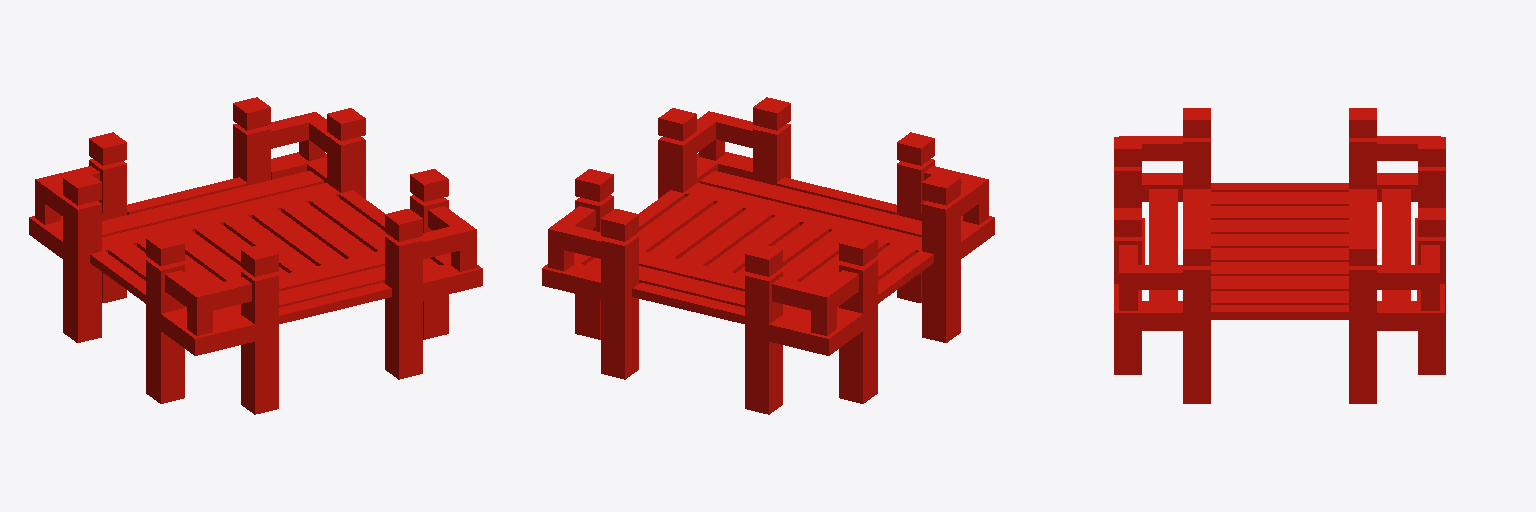
3 renders of one model, left to right at view 1: azimuth 30°, elevation 25°; view 2: azimuth 150°, elevation 25°; view 3: azimuth 270°, elevation 25°, orthographic.
Visible parts, largest first — view 1: cube; view 2: cube; view 3: cube.
Part boxes in pixels (x1,y1,x2,y2): cube: (29, 97, 482, 414); cube: (542, 97, 994, 414); cube: (1114, 108, 1445, 403).
Size of the model in its own units: 1.09 by 0.5625 by 1.09.
Materials: 1 (1 with a texture image).